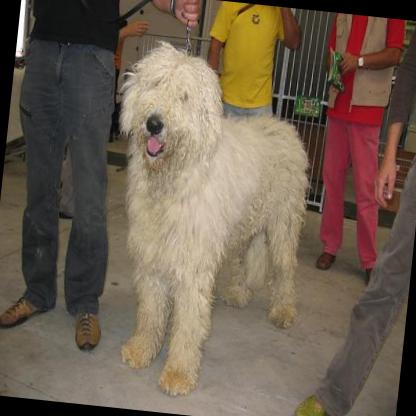komondor: (84, 31, 325, 406)
